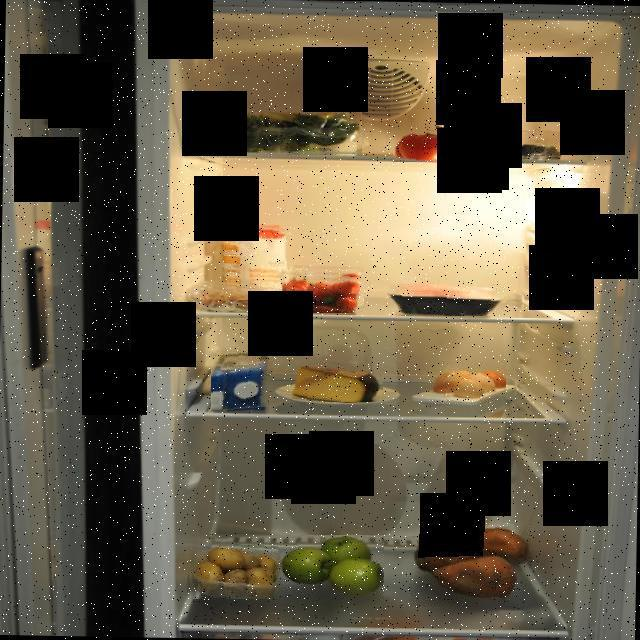apple: (274, 535, 384, 601)
blueberries: (462, 130, 566, 160)
cheese: (292, 363, 384, 402)
eggs: (426, 364, 506, 408)
ground_beef: (381, 278, 508, 316)
milk: (211, 350, 275, 412)
potato: (185, 542, 278, 599)
spinach: (208, 112, 362, 158)
strawberries: (282, 269, 365, 313)
sugar: (218, 221, 292, 300)
sweet_potato: (410, 525, 532, 607)
tomato: (388, 122, 491, 162)
